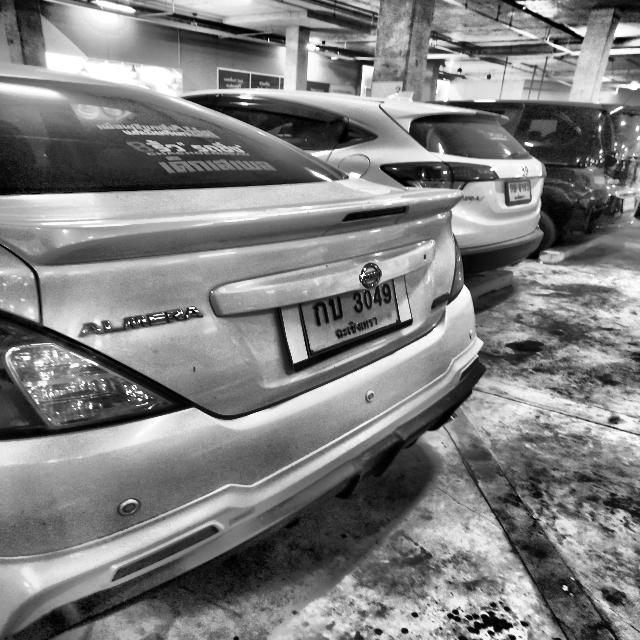license-plate: (300, 279, 400, 356)
